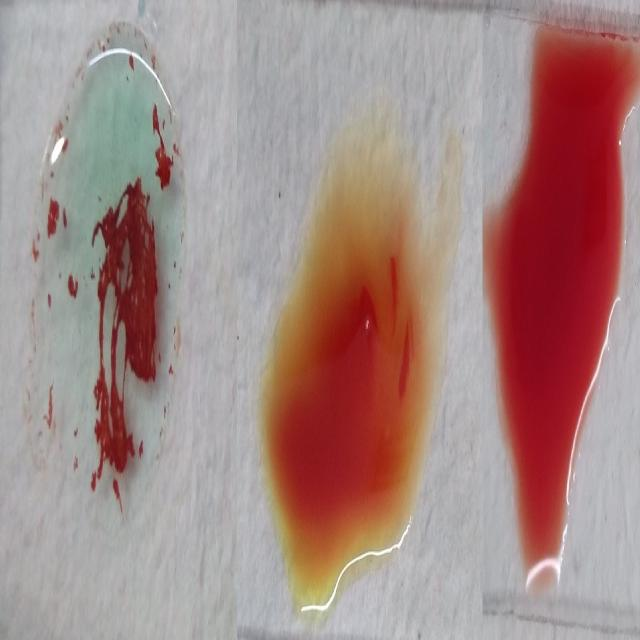A: (38, 32, 184, 516)
